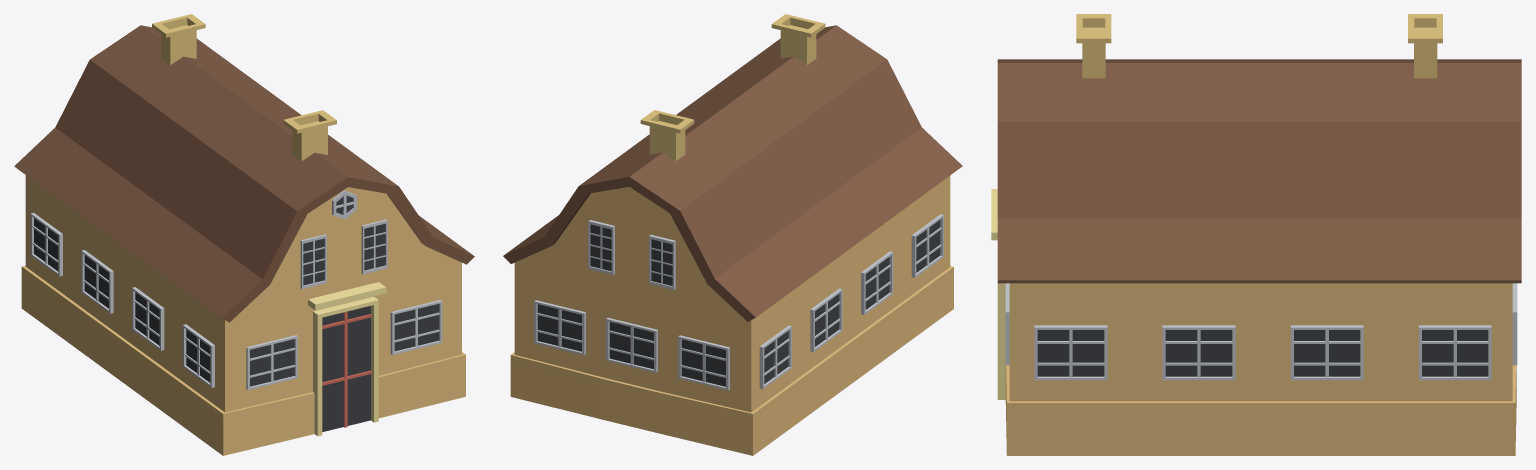
Rendered from Building_KinderGarten.fbx.
The picture shows the model from 3 angles, left to right: view 1: azimuth 30°, elevation 25°; view 2: azimuth 150°, elevation 25°; view 3: azimuth 270°, elevation 25°; orthographic projection. The views are drawn at different scales.
Visible parts, largest first — view 1: Building_KinderGarten; view 2: Building_KinderGarten; view 3: Building_KinderGarten.
Boxes of the visible parts, x1=… form: Building_KinderGarten: x1=14, y1=14, x2=474, y2=455; Building_KinderGarten: x1=503, y1=14, x2=962, y2=455; Building_KinderGarten: x1=991, y1=14, x2=1521, y2=455.
Bounding box in the file's own units: 830 × 880 × 1192.
